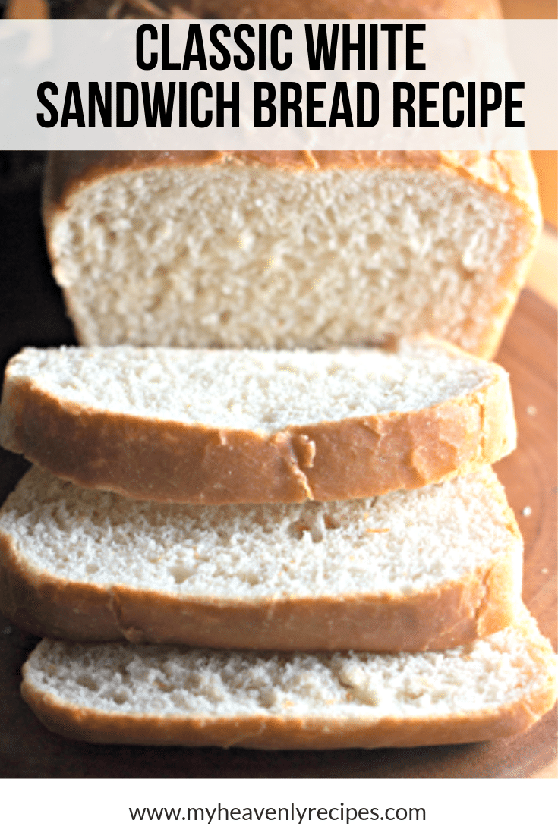white_bread: (50, 150, 534, 422)
